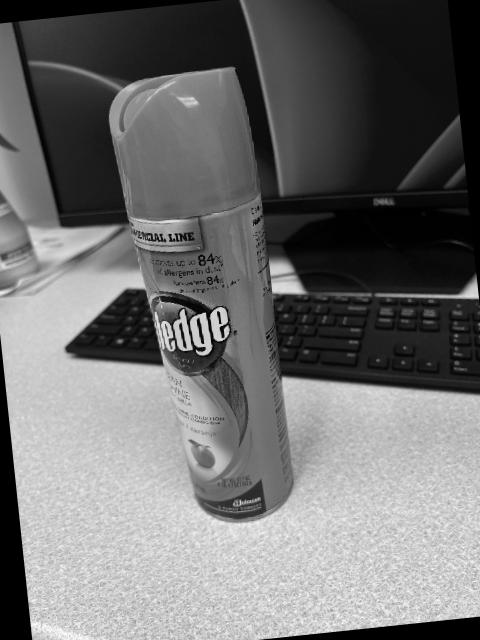Pledge: (109, 67, 295, 524)
